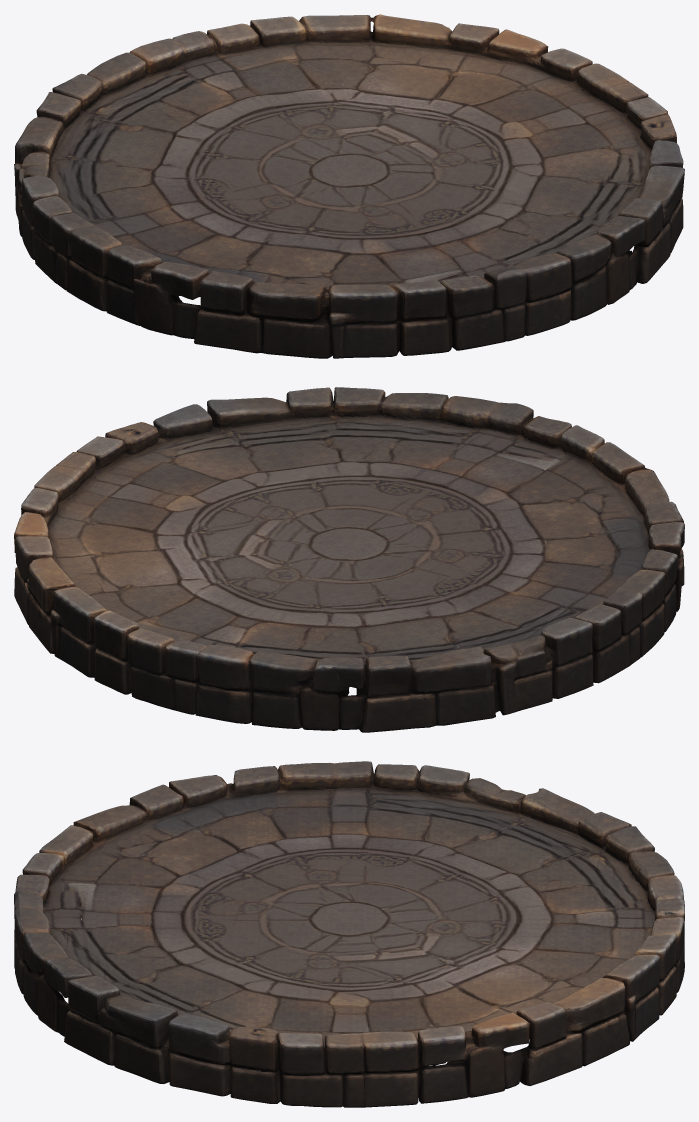
The model's file is source.glb.
3 views of the same model, one above another, from view 1: azimuth 30°, elevation 25°; view 2: azimuth 150°, elevation 25°; view 3: azimuth 270°, elevation 25° (orthographic).
Visible parts, largest first — view 1: world; view 2: world; view 3: world.
Boxes of the visible parts, x1,y1,x2,y2 form: world: [14, 14, 684, 358]; world: [14, 387, 684, 732]; world: [14, 761, 684, 1107].
Bounding box in the file's own units: 0.9996 × 0.1161 × 0.9996.
1 material, 1 textured.
